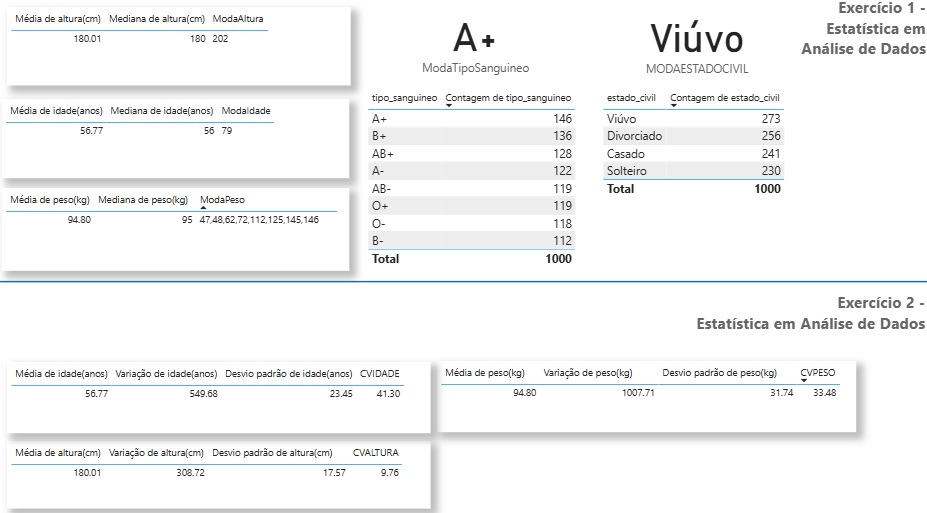

This screenshot's page, from the dashboard's own definition file:
{"tool":"powerbi","page":{"name":"Página 1","canvas":[1280,720],"ordinal":0},"visuals":[{"type":"tableEx","fields":{"Values":["Avg(dados_pacientes.altura(cm))","Median(dados_pacientes.altura(cm))1","dados_pacientes.ModaAltura"]},"box":[10.6,19.9,472.9,107.6],"z":0},{"type":"tableEx","fields":{"Values":["Avg(dados_pacientes.idade(anos))","Median(dados_pacientes.idade(anos))1","dados_pacientes.ModaIdade"]},"box":[4,146.1,478.2,108.9],"z":2000},{"type":"tableEx","fields":{"Values":["Avg(dados_pacientes.peso(kg))","Median(dados_pacientes.peso(kg))1","dados_pacientes.ModaPeso"]},"box":[4,268.3,478.2,114.2],"z":3000},{"type":"tableEx","fields":{"Values":["dados_pacientes.tipo_sanguineo","CountNonNull(dados_pacientes.tipo_sanguineo)"]},"box":[502,127.3,307.3,254.6],"z":4000},{"type":"card","fields":{"Values":["dados_pacientes.ModaTipoSanguineo"]},"box":[502.4,0,306.9,128],"z":5000},{"type":"tableEx","fields":{"Values":["dados_pacientes.estado_civil","CountNonNull(dados_pacientes.estado_civil)"]},"box":[825.8,128,269.8,254.6],"z":6000},{"type":"card","fields":{"Values":["dados_pacientes.MODAESTADOCIVIL"]},"box":[825.8,2.8,269.8,125.2],"z":7000},{"type":"tableEx","fields":{"Values":["Avg(dados_pacientes.altura(cm))","Variance(dados_pacientes.altura(cm))","Sum(dados_pacientes.altura(cm))","dados_pacientes.CVALTURA"]},"box":[10.6,616.4,583.2,93],"z":8000},{"type":"tableEx","fields":{"Values":["Avg(dados_pacientes.peso(kg))","Variance(dados_pacientes.peso(kg))","Sum(dados_pacientes.peso(kg))","dados_pacientes.CVPESO"]},"box":[603.2,506.6,576.7,97.7],"z":9000},{"type":"tableEx","fields":{"Values":["Avg(dados_pacientes.idade(anos))","Variance(dados_pacientes.idade(anos))","Sum(dados_pacientes.idade(anos))","dados_pacientes.CVIDADE"]},"box":[11,507.5,583.2,98.3],"z":10000},{"type":"shape","box":[0,382.6,1280.6,29.2],"z":11000},{"type":"textbox","box":[1078.5,0,202,103.9],"z":12000},{"type":"textbox","box":[949.7,406,330.3,85.3],"z":13000}]}

Visuals, with their boxes in screenshot pixels (x1, y1, x2, y2), scaled from the page's 1280x720 canvas onto the 927x513 screenshot:
tableEx - Avg(dados_pacientes.altura(cm)) x Median(dados_pacientes.altura(cm))1: (left=8, top=14, right=350, bottom=91)
tableEx - Avg(dados_pacientes.idade(anos)) x Median(dados_pacientes.idade(anos))1: (left=3, top=104, right=349, bottom=182)
tableEx - Avg(dados_pacientes.peso(kg)) x Median(dados_pacientes.peso(kg))1: (left=3, top=191, right=349, bottom=273)
tableEx - dados_pacientes.tipo_sanguineo x CountNonNull(dados_pacientes.tipo_sanguineo): (left=364, top=91, right=586, bottom=272)
card - dados_pacientes.ModaTipoSanguineo: (left=364, top=0, right=586, bottom=91)
tableEx - dados_pacientes.estado_civil x CountNonNull(dados_pacientes.estado_civil): (left=598, top=91, right=793, bottom=273)
card - dados_pacientes.MODAESTADOCIVIL: (left=598, top=2, right=793, bottom=91)
tableEx - Avg(dados_pacientes.altura(cm)) x Variance(dados_pacientes.altura(cm)): (left=8, top=439, right=430, bottom=505)
tableEx - Avg(dados_pacientes.peso(kg)) x Variance(dados_pacientes.peso(kg)): (left=437, top=361, right=855, bottom=431)
tableEx - Avg(dados_pacientes.idade(anos)) x Variance(dados_pacientes.idade(anos)): (left=8, top=362, right=430, bottom=432)
shape: (left=0, top=273, right=926, bottom=293)
textbox: (left=781, top=0, right=926, bottom=74)
textbox: (left=688, top=289, right=926, bottom=350)
